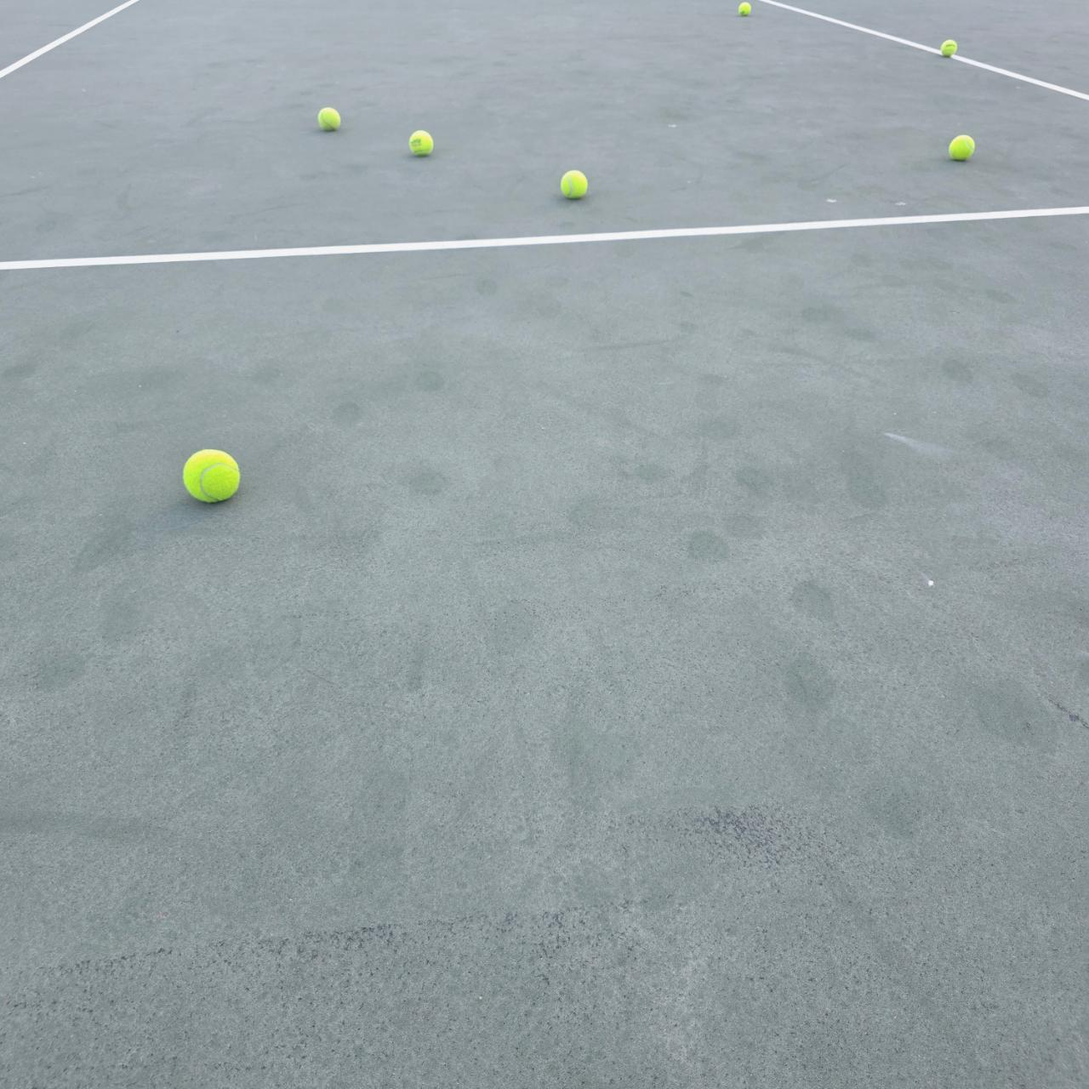tennis-ball: (182, 446, 242, 504), (560, 168, 590, 199), (949, 132, 977, 161), (408, 128, 436, 156), (317, 105, 343, 130), (941, 39, 958, 57), (738, 2, 752, 16)
